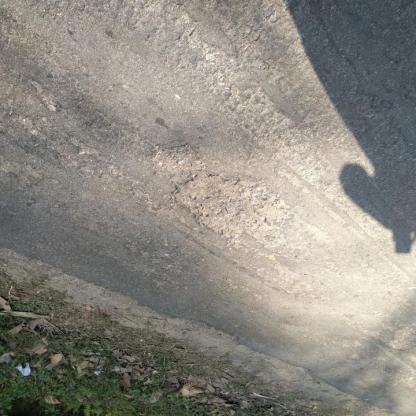pothole: (167, 173, 289, 246), (152, 141, 208, 175)
